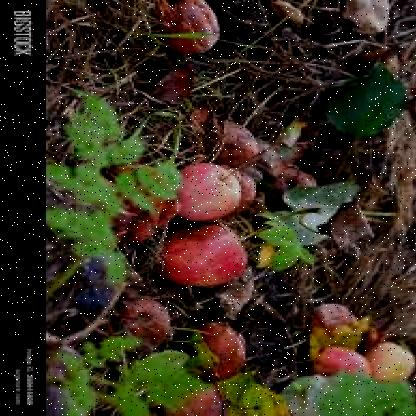damaged_apple: (302, 300, 376, 382), (160, 221, 246, 290), (174, 162, 242, 223), (184, 317, 246, 381), (109, 294, 180, 348), (154, 0, 226, 51), (206, 121, 260, 170)
